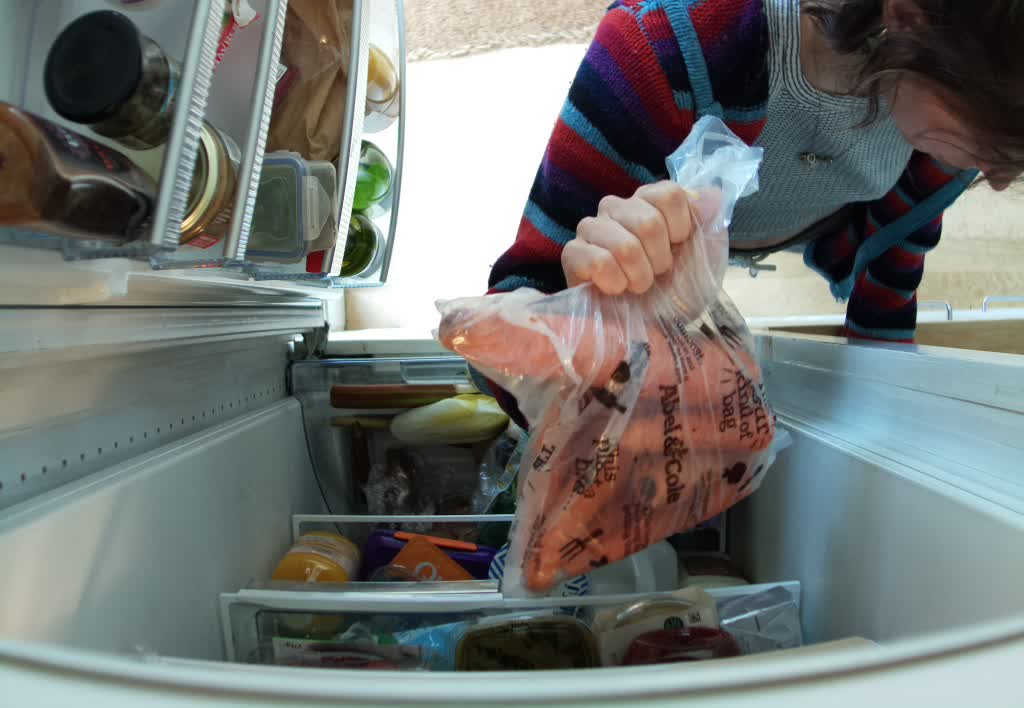carrot: (440, 305, 775, 589)
